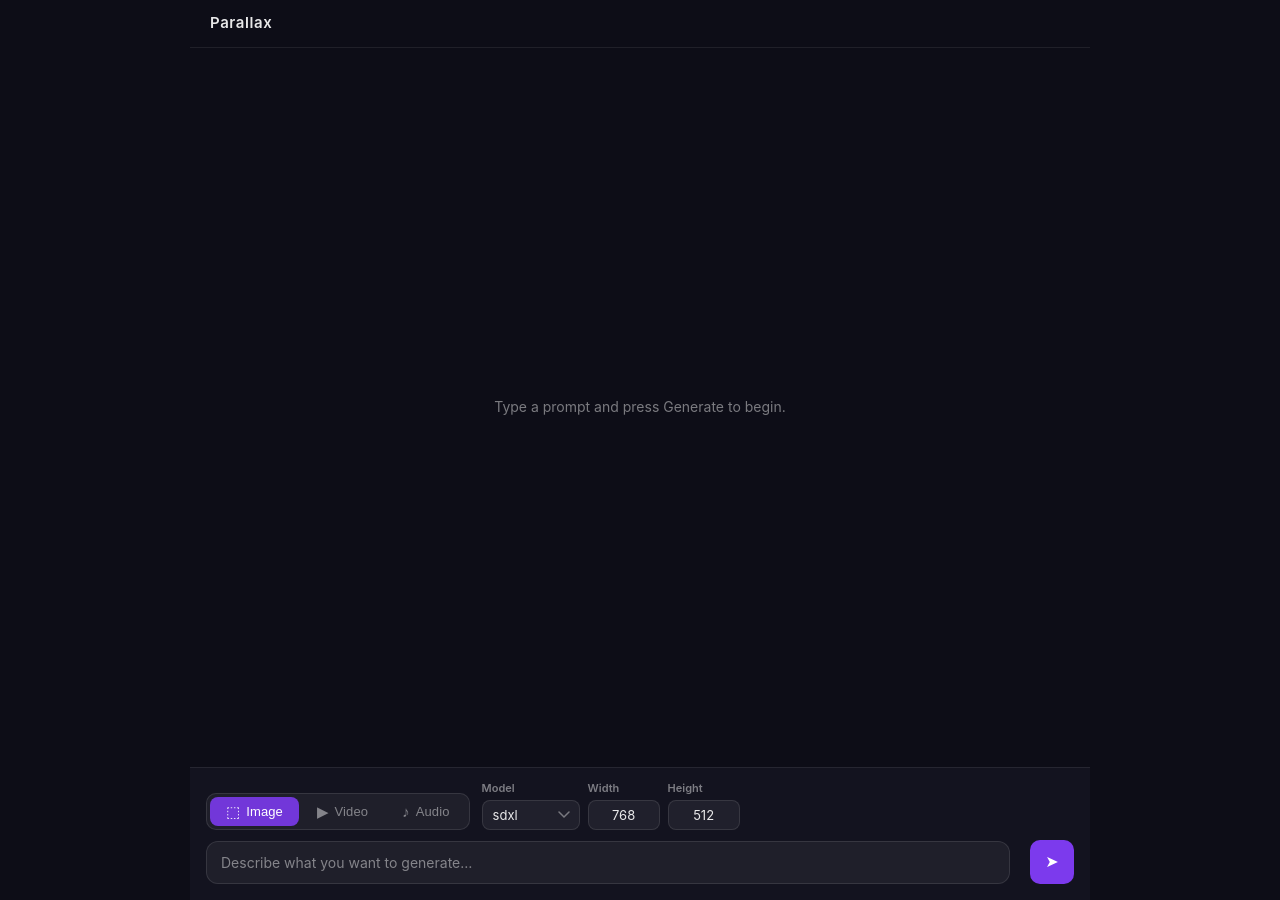
it: US-003 AC05 — connection lost › shows connection-lost message when SSE errors before completion
The width and height of the screenshot is (1280, 900).
In the text box with test id "prompt-input": (608, 862) [206,841,1010,884], type "anything"
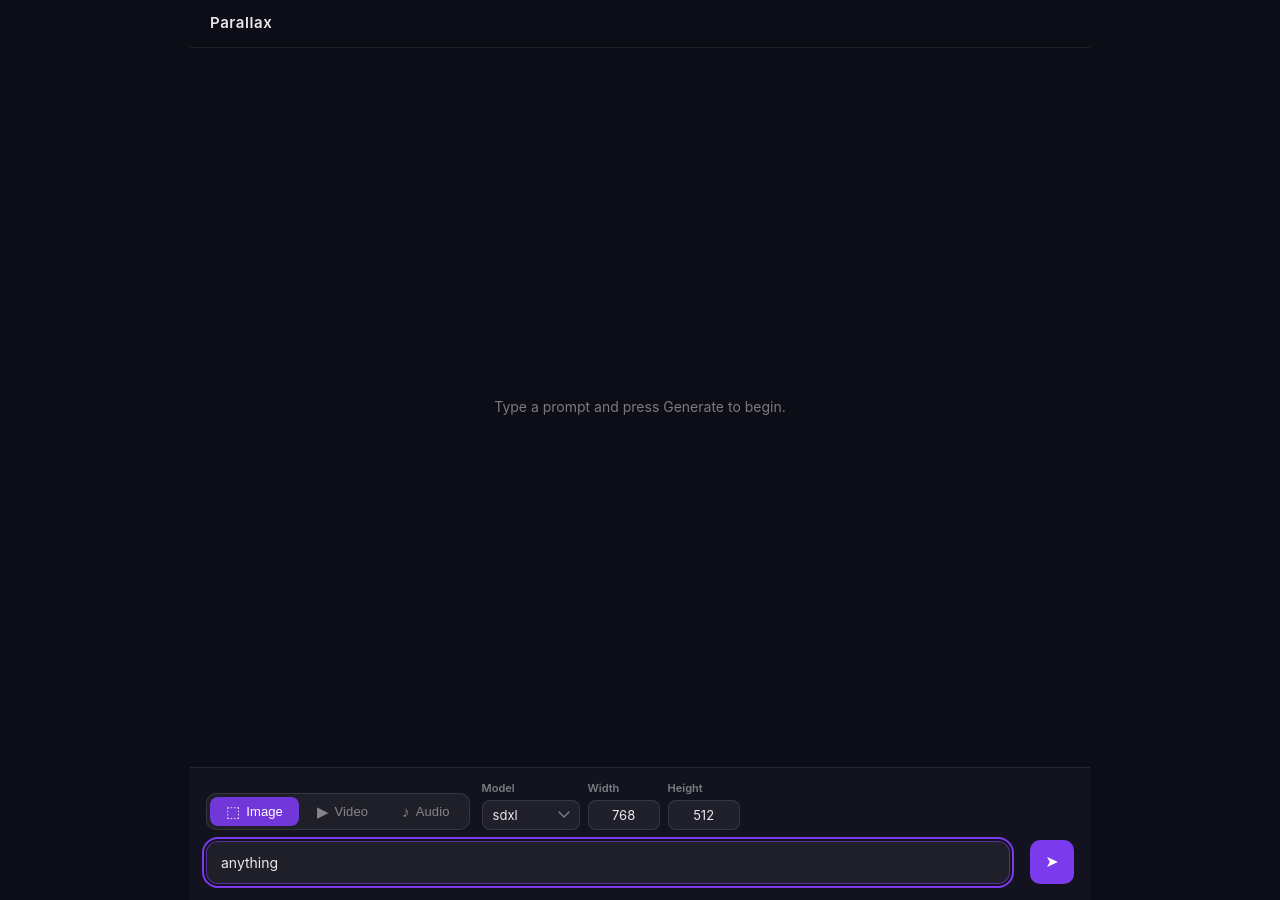
Click the button named "Generate": (1052, 862) [1030,840,1074,884]
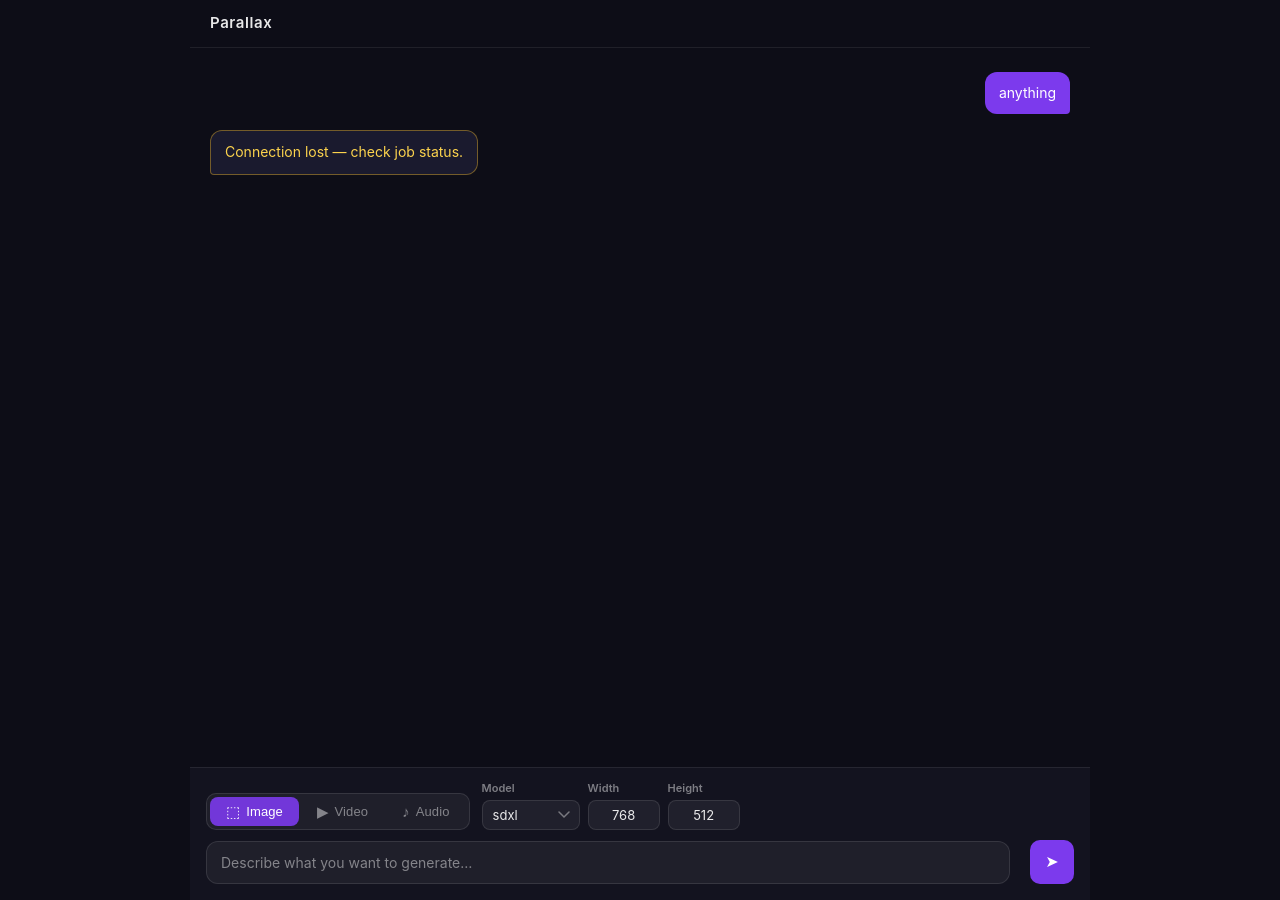
expect the element with test id "bubble-assistant" reads "Connection lost — check job status.": met, box [225,143,463,160]
